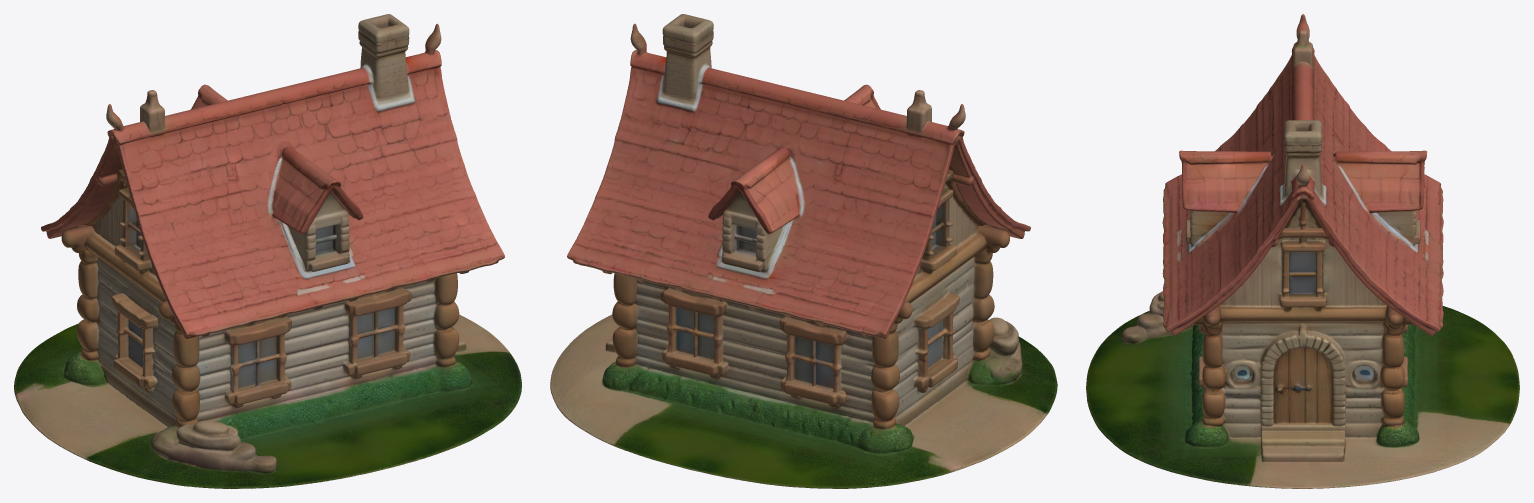
The model's file is detailed_realistic_model_houseelf_02.glb.
3 views of the same model, side by side, from view 1: azimuth 30°, elevation 25°; view 2: azimuth 150°, elevation 25°; view 3: azimuth 270°, elevation 25° (orthographic). The views are drawn at different scales.
Parts seen in each view (by area): view 1: tripo_node_ced404a9-24b4-4e6a-9438-1d2eca01a5d2; view 2: tripo_node_ced404a9-24b4-4e6a-9438-1d2eca01a5d2; view 3: tripo_node_ced404a9-24b4-4e6a-9438-1d2eca01a5d2.
Part boxes in pixels (box(x1,y1,x2,y2)): tripo_node_ced404a9-24b4-4e6a-9438-1d2eca01a5d2: box(14, 14, 521, 488); tripo_node_ced404a9-24b4-4e6a-9438-1d2eca01a5d2: box(550, 14, 1057, 488); tripo_node_ced404a9-24b4-4e6a-9438-1d2eca01a5d2: box(1086, 14, 1519, 488).
Size of the model in its own units: 0.9999 by 0.7286 by 0.9081.
1 material, 1 textured.
